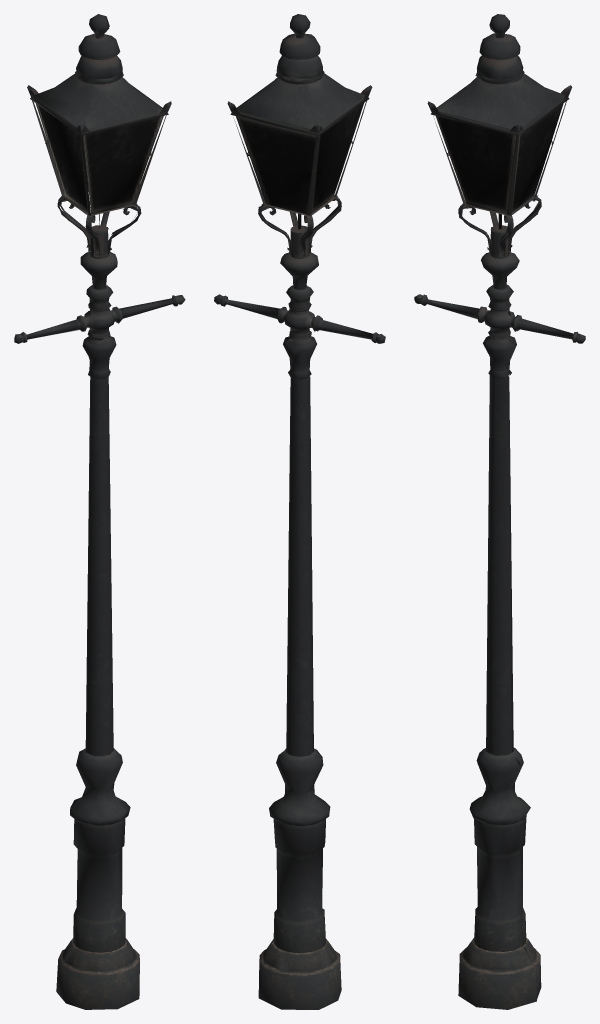
Rendered from ph_street_lamp_01.fbx.
3 views of the same model, side by side, from view 1: azimuth 30°, elevation 25°; view 2: azimuth 150°, elevation 25°; view 3: azimuth 330°, elevation 25° (orthographic).
Parts seen in each view (by area): view 1: ph_street_lamp_01_LOD0; view 2: ph_street_lamp_01_LOD0; view 3: ph_street_lamp_01_LOD0.
Part boxes in pixels (<box>): ph_street_lamp_01_LOD0: <box>14,14,185,1009</box>; ph_street_lamp_01_LOD0: <box>214,14,385,1009</box>; ph_street_lamp_01_LOD0: <box>414,14,585,1009</box>.
Size of what is drawn, in the model's own units: 0.7029 by 3.87 by 0.3839.
